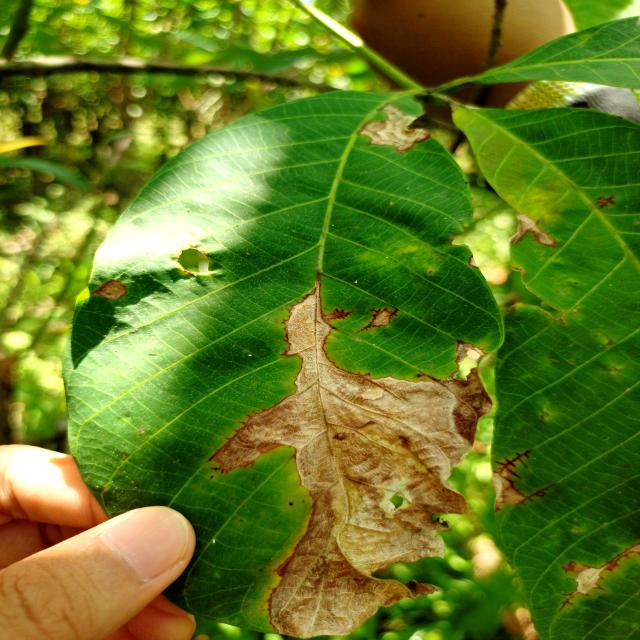Colletotrichum: (289, 502, 293, 506)
Corynespora: (558, 542, 640, 610), (353, 306, 401, 334), (492, 448, 532, 480), (509, 484, 558, 506), (595, 193, 618, 209), (330, 308, 354, 320)
Leaf-Blight: (210, 286, 492, 638), (358, 104, 431, 152), (512, 211, 556, 247), (485, 472, 524, 511)
